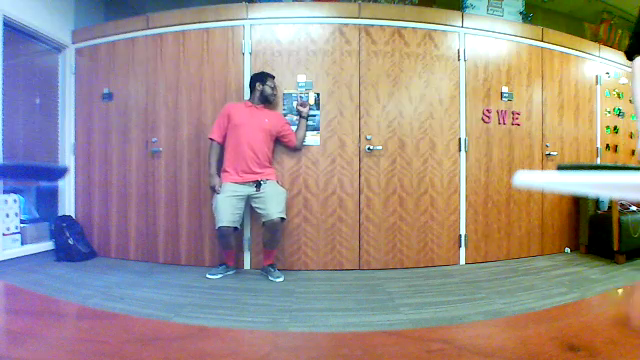up: (292, 90, 313, 121)
